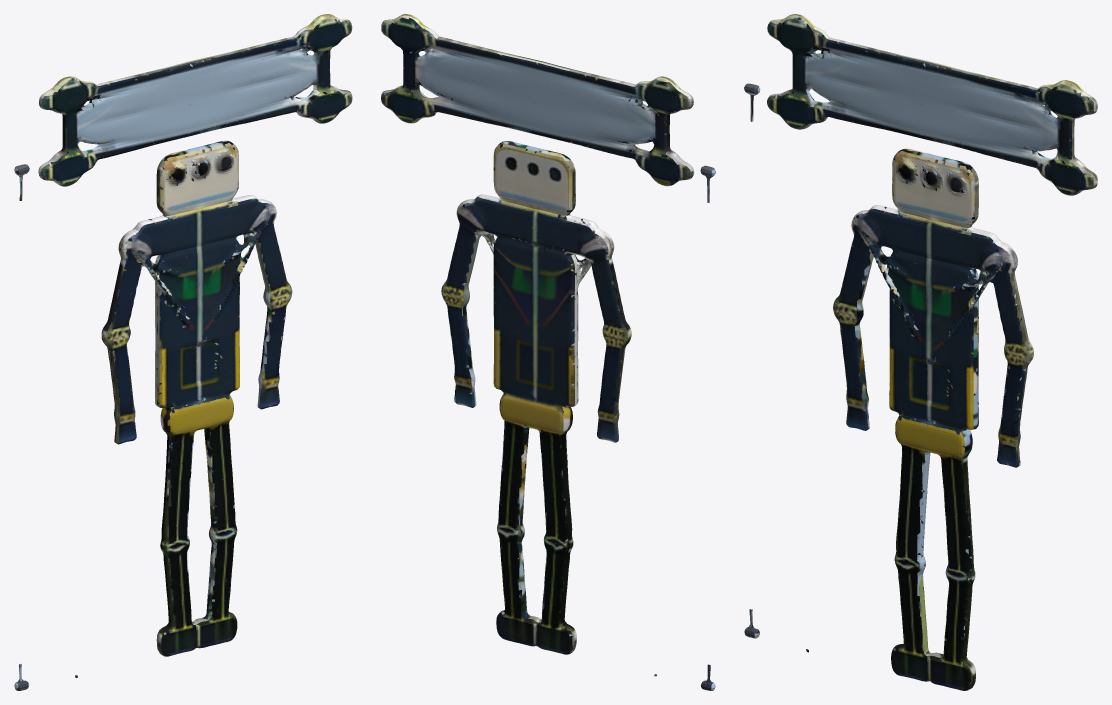
Rendered from zola-body-v2.glb.
3 renders of one model, left to right at view 1: azimuth 30°, elevation 25°; view 2: azimuth 150°, elevation 25°; view 3: azimuth 330°, elevation 25°, orthographic. The views are drawn at different scales.
Visible parts, largest first — view 1: geometry_0; view 2: geometry_0; view 3: geometry_0.
Part boxes in pixels (left/top/right/bottom): geometry_0: left=14, top=14, right=352, bottom=690; geometry_0: left=381, top=14, right=715, bottom=690; geometry_0: left=744, top=14, right=1097, bottom=690.
Bounding box in the file's own units: 1.15 × 1.96 × 0.0617.
1 material, 1 textured.
